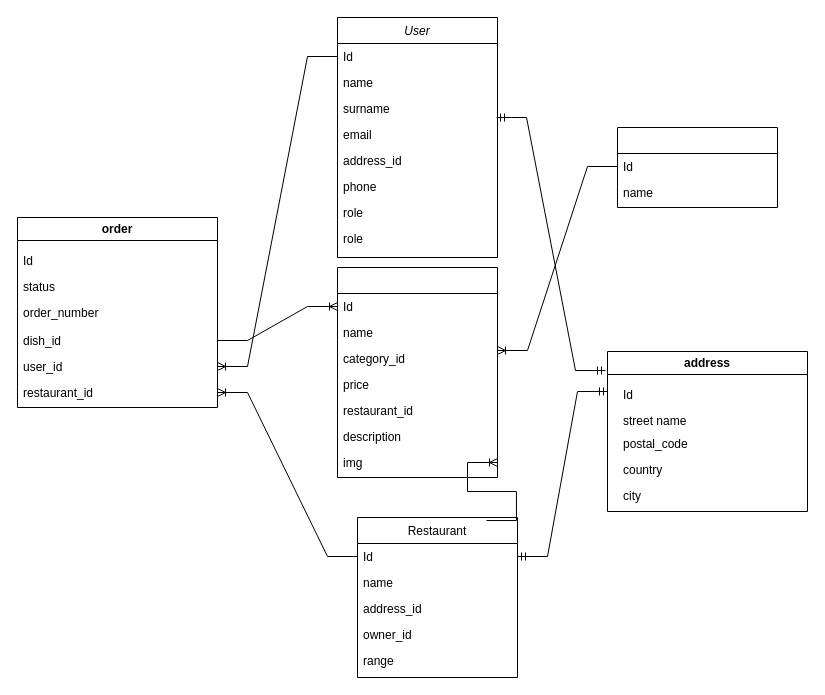
The diagram is 825 pixels wide and 695 high, and some of its shapes have lost their labels. The shapes that lost their labels are listed below. From the top down, each one's box as (x1, y1, x2, y2) in pixels, then its label:
(616, 126, 778, 208): Category
(336, 266, 498, 478): Dish
